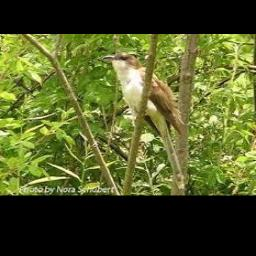Cuckoo: (102, 54, 185, 134)
